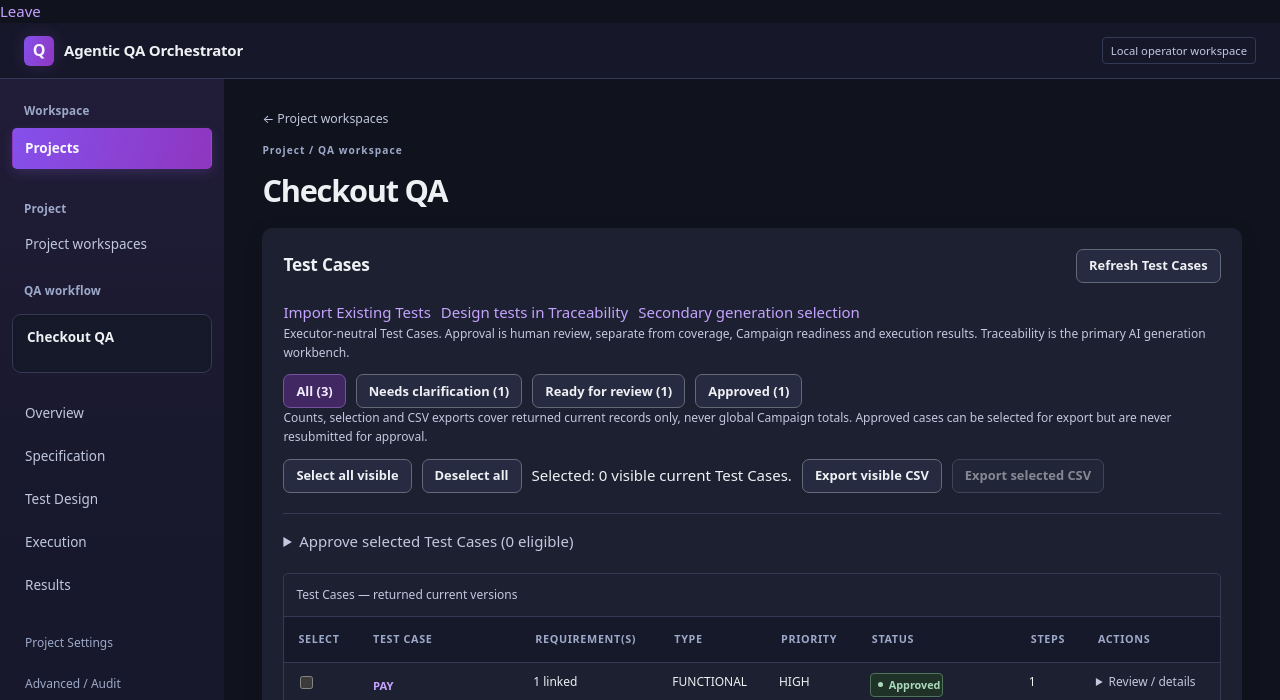
Test case: Test Cases current workspace › shows a safe local export failure without sending a request
Click the button "Export visible CSV" at (872, 476), box x1=802 y1=458 x2=942 y2=492
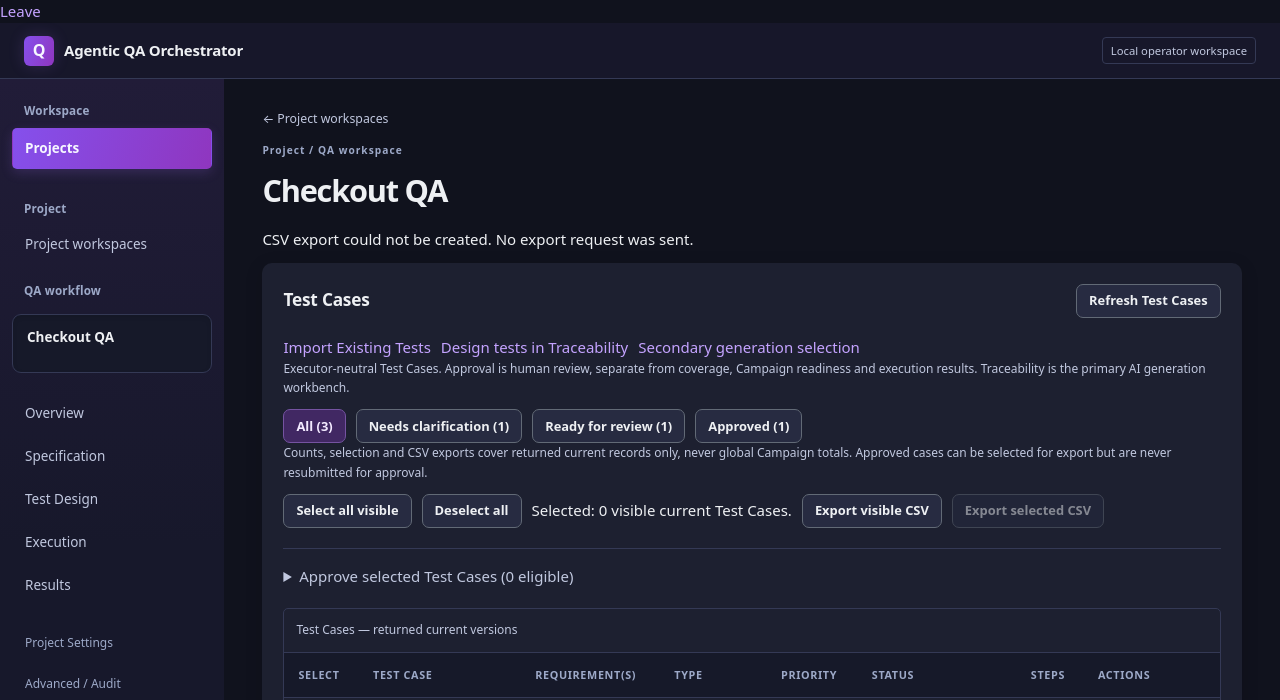
expect the text "CSV export could not be created. No export request was sent." is shown: met, box x1=262 y1=228 x2=693 y2=248
